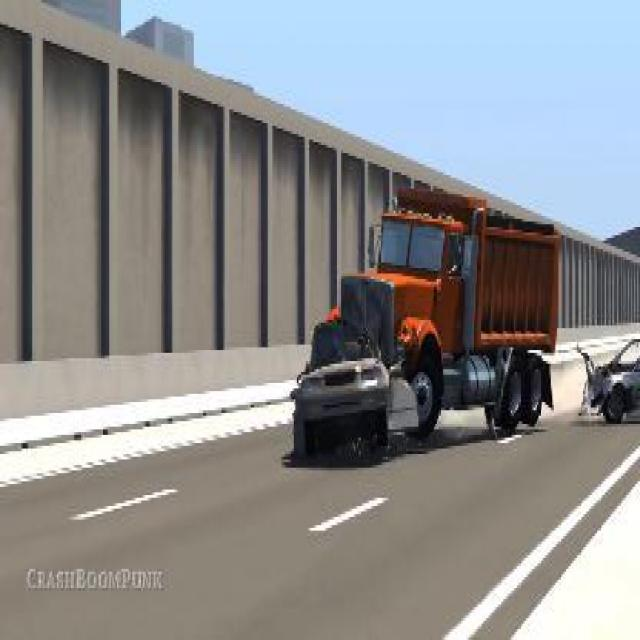accident: (288, 167, 563, 457)
